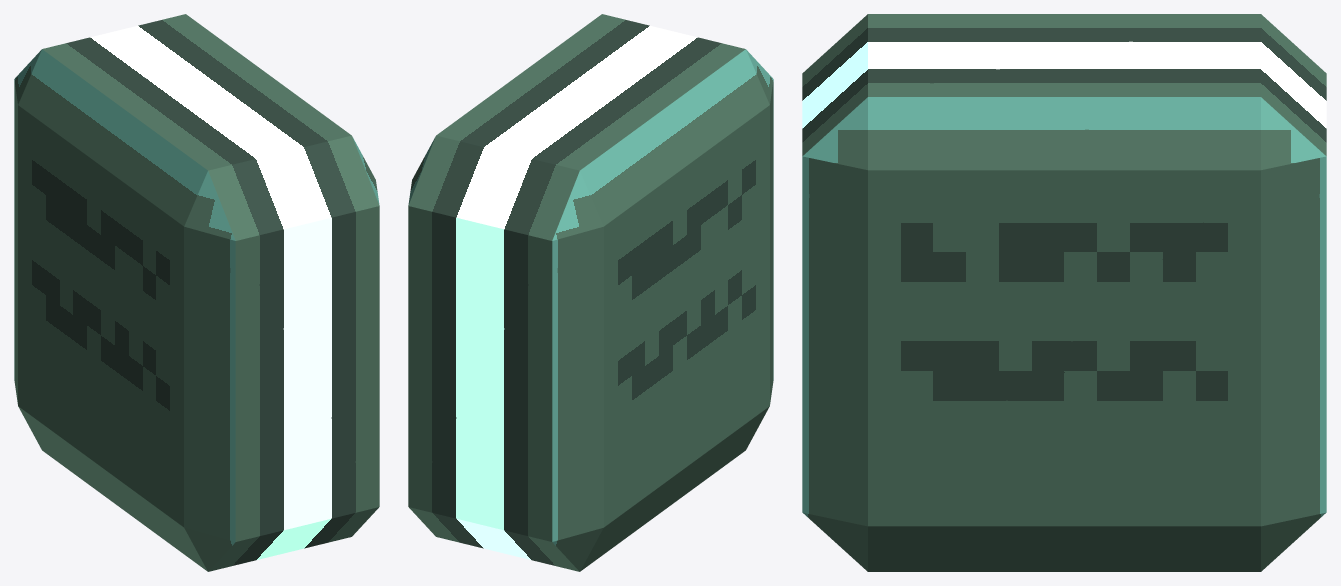
File: j-store.gltf
The picture shows the model from 3 angles, left to right: view 1: azimuth 30°, elevation 25°; view 2: azimuth 150°, elevation 25°; view 3: azimuth 270°, elevation 25°; orthographic projection. The views are drawn at different scales.
Parts seen in each view (by area): view 1: j-store; view 2: j-store; view 3: j-store.
Boxes of the visible parts, box(x1,y1,x2,y2) form: j-store: box(14, 14, 379, 571); j-store: box(408, 14, 773, 571); j-store: box(802, 14, 1326, 571).
Size of the model in its own units: 0.25 by 0.5 by 0.5.
Materials: 1 (1 with a texture image).
